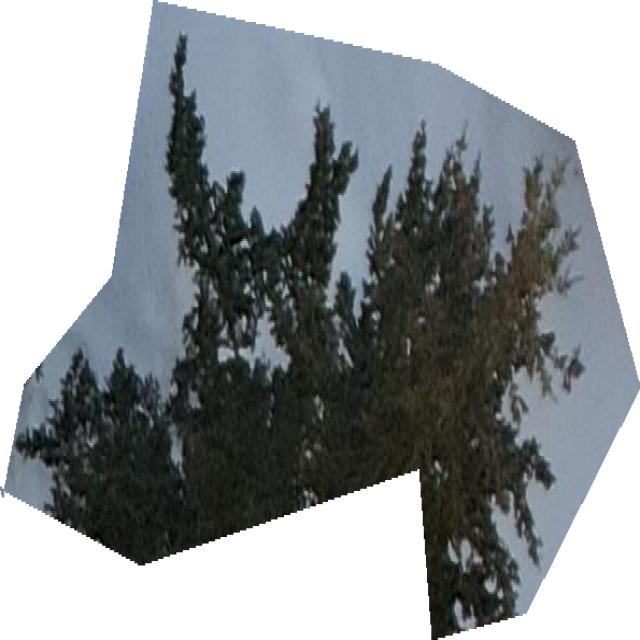spruce: (15, 35, 617, 638)
